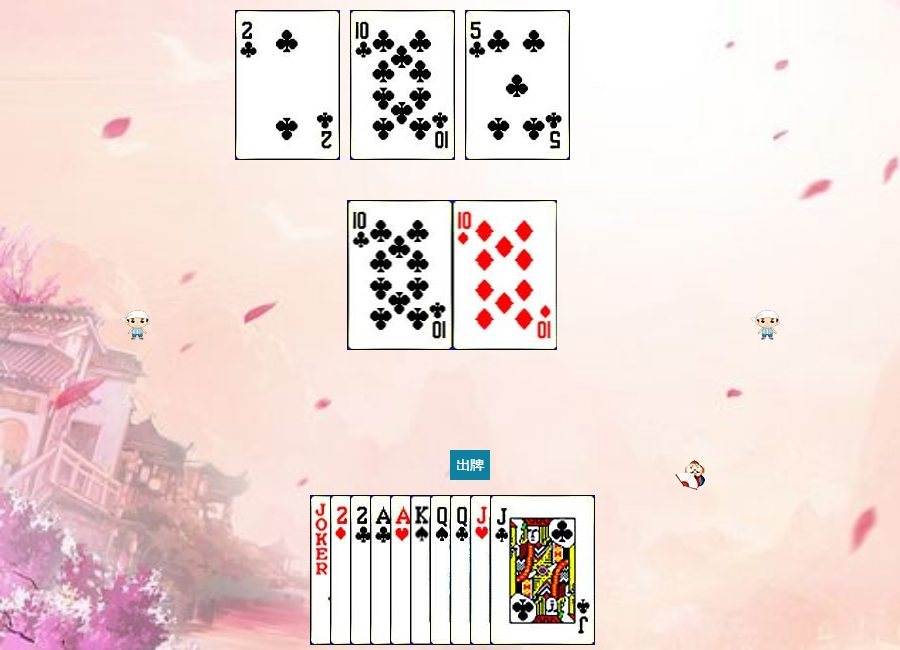10~1: (453, 200, 558, 350)
10~2: (350, 10, 455, 160), (348, 200, 453, 350)
11~2: (490, 495, 595, 645)
11~3: (470, 495, 575, 645)
12~2: (450, 495, 555, 645)
12~4: (430, 495, 535, 645)
13~4: (410, 495, 515, 645)
14~2: (370, 495, 475, 645)
14~3: (390, 495, 495, 645)
15~1: (330, 495, 435, 645)
15~2: (235, 10, 340, 160), (350, 495, 455, 645)
18~4: (310, 495, 415, 645)
5~2: (465, 10, 570, 160)
